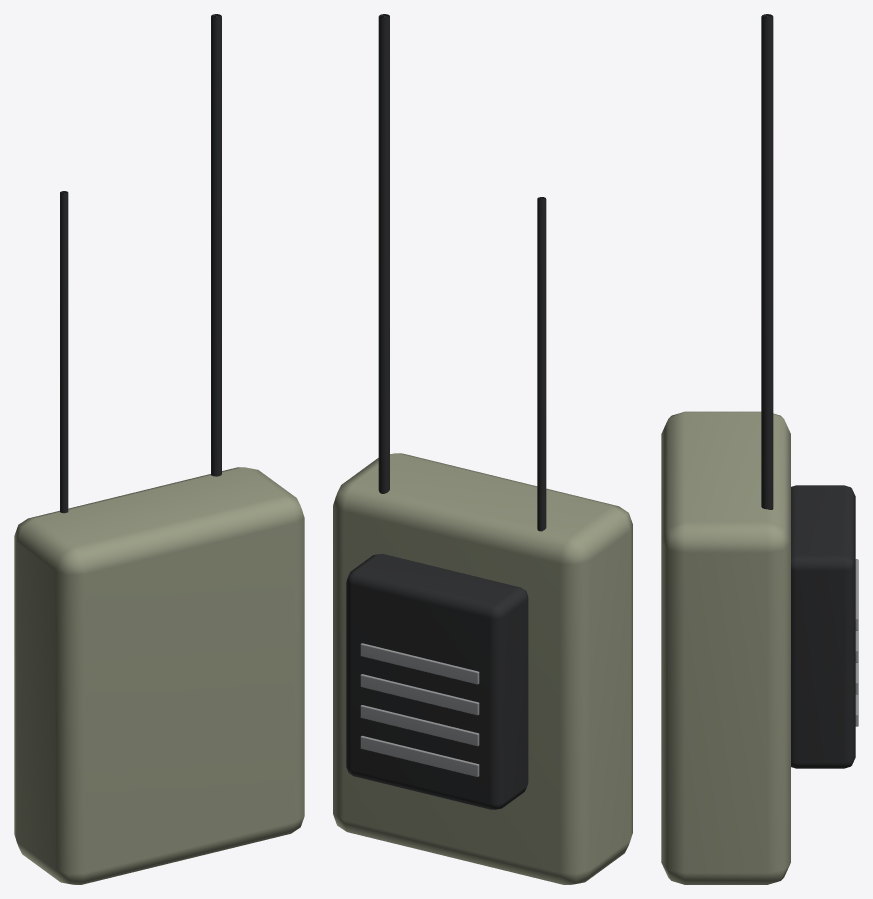
File: backpack_radio_CT.glb
3 views of the same model, side by side, from view 1: azimuth 30°, elevation 25°; view 2: azimuth 150°, elevation 25°; view 3: azimuth 270°, elevation 25° (orthographic). The views are drawn at different scales.
Visible parts, largest first — view 1: pack@Chest; view 2: pack@Chest; view 3: pack@Chest.
Boxes of the visible parts, x1,y1,x2,y2 form: pack@Chest: (14,14,304,884); pack@Chest: (333,14,632,884); pack@Chest: (661,14,858,884).
Bounding box in the file's own units: 0.26 × 0.8 × 0.1675.
